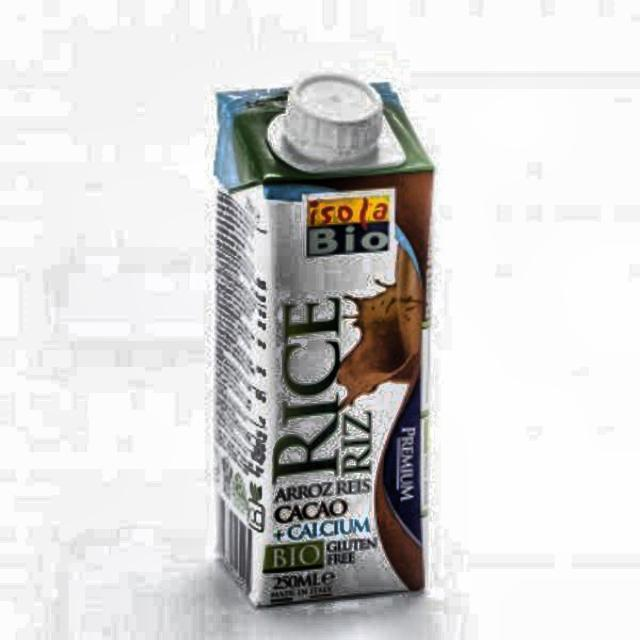cardboard: (210, 76, 435, 608)
